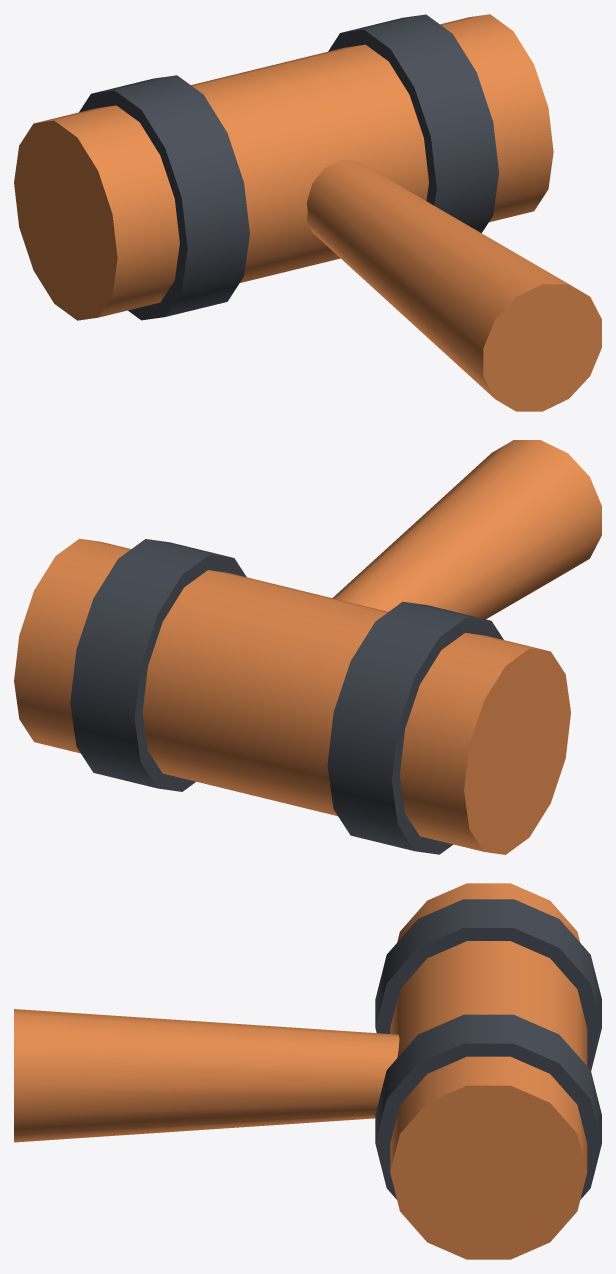
Rendered from Hammer.fbx.
3 renders of one model, top to bottom at view 1: azimuth 30°, elevation 25°; view 2: azimuth 150°, elevation 25°; view 3: azimuth 270°, elevation 25°, orthographic. The views are drawn at different scales.
Parts seen in each view (by area): view 1: Hammer; view 2: Hammer; view 3: Hammer.
Part boxes in pixels (x1,y1,x2,y2): Hammer: [14, 14, 601, 411]; Hammer: [14, 440, 601, 854]; Hammer: [14, 883, 601, 1259].
Bounding box in the file's own units: 158 × 73.07 × 195.
